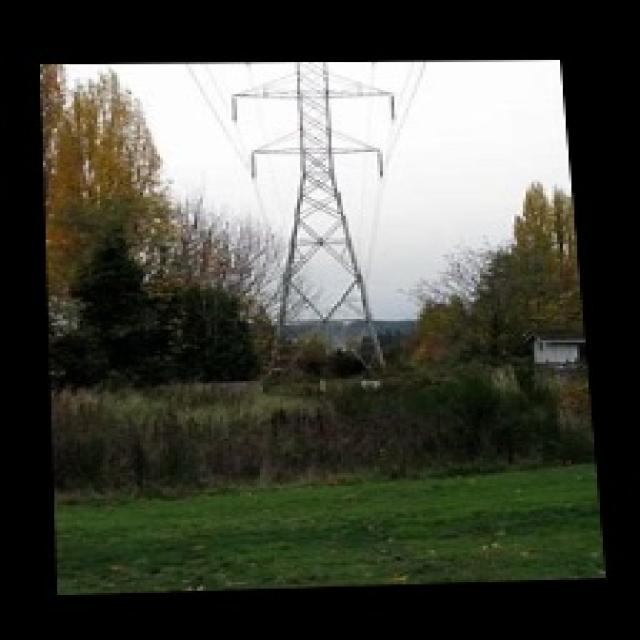utility poles: (345, 309, 499, 403), (211, 270, 328, 386)
